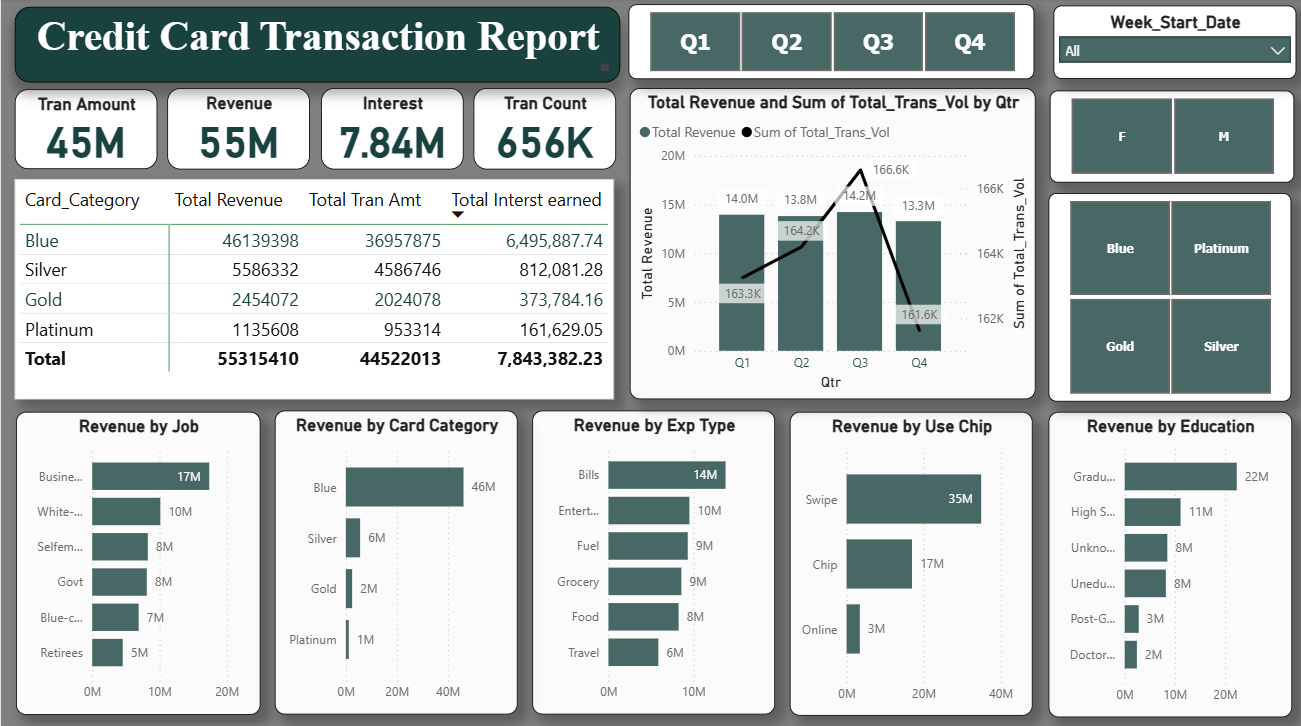

This screenshot's page, from the dashboard's own definition file:
{"tool":"powerbi","page":{"name":"Credit Card Transaction Report","canvas":[1280,720],"ordinal":0},"visuals":[{"type":"card","title":"Tran Amount","fields":{"Values":["Measure.Total Tran Amt"]},"box":[14,90,140,78],"z":0},{"type":"card","title":"Tran Count","fields":{"Values":["Measure.Total Tran Count"]},"box":[463.3,88.9,140,80],"z":1000},{"type":"card","title":"Interest","fields":{"Values":["Measure.Total Interst earned"]},"box":[313.6,88.9,140,80],"z":2000},{"type":"card","title":"Revenue","fields":{"Values":["Measure.Total Revenue"]},"box":[163.8,88.9,140,80],"z":3000},{"type":"pivotTable","fields":{"Rows":["credit_card.Card_Category"],"Values":["Measure.Total Revenue","Measure.Total Tran Amt","Measure.Total Interst earned"]},"box":[14,178,588,216],"z":4000},{"type":"barChart","title":"Revenue by Exp Type","fields":{"Category":["credit_card.Exp Type"],"Y":["Measure.Total Revenue"]},"box":[521.8,405,238.8,298.8],"z":5000},{"type":"barChart","title":"Revenue by Education","fields":{"Y":["Measure.Total Revenue"],"Category":["customer.Education_Level"]},"box":[1027.6,406.5,238.8,300],"z":6000},{"type":"barChart","title":"Revenue by Job","fields":{"Y":["Measure.Total Revenue"],"Category":["customer.Customer_Job","customer.Education_Level"]},"box":[14.6,406.2,240,297.7],"z":7000},{"type":"barChart","title":"Revenue by Card Category","fields":{"Y":["Measure.Total Revenue"],"Category":["credit_card.Card_Category"]},"box":[268.8,405,238.8,298.8],"z":8000},{"type":"barChart","title":"Revenue by Use Chip","fields":{"Y":["Measure.Total Revenue"],"Category":["credit_card.Use Chip"]},"box":[774.7,406.2,238.8,298.8],"z":9000},{"type":"textbox","title":"Credit Card Transaction Report","box":[14,8,594,74],"z":10000},{"type":"lineStackedColumnComboChart","fields":{"Y":["Measure.Total Revenue"],"Category":["credit_card.Qtr"],"Y2":["Sum(credit_card.Total_Trans_Vol)"]},"box":[617.1,88.6,398.6,305.7],"z":11000},{"type":"slicer","fields":{"Values":["credit_card.Qtr"]},"box":[616.2,6.2,398.8,73.8],"z":12000},{"type":"slicer","fields":{"Values":["customer.Gender"]},"box":[1030,90.5,240,90],"z":13000},{"type":"slicer","fields":{"Values":["credit_card.Card_Category"]},"box":[1028.3,191,238.3,205],"z":14000},{"type":"slicer","title":"Week_Start_Date","fields":{"Values":["credit_card.Week_Start_Date"]},"box":[1032.6,7,238.4,72.1],"z":15000}]}

Visuals, with their boxes in screenshot pixels (x1, y1, x2, y2), scaled from the page's 1280x720 canvas onto the 1301x726 screenshot:
"Tran Amount" card: [x1=14, y1=91, x2=157, y2=169]
"Tran Count" card: [x1=471, y1=90, x2=613, y2=170]
"Interest" card: [x1=319, y1=90, x2=461, y2=170]
"Revenue" card: [x1=166, y1=90, x2=309, y2=170]
pivotTable - credit_card.Card_Category x Measure.Total Revenue: [x1=14, y1=179, x2=612, y2=397]
"Revenue by Exp Type" barChart: [x1=530, y1=408, x2=773, y2=710]
"Revenue by Education" barChart: [x1=1044, y1=410, x2=1287, y2=712]
"Revenue by Job" barChart: [x1=15, y1=410, x2=259, y2=710]
"Revenue by Card Category" barChart: [x1=273, y1=408, x2=516, y2=710]
"Revenue by Use Chip" barChart: [x1=787, y1=410, x2=1030, y2=711]
"Credit Card Transaction Report" textbox: [x1=14, y1=8, x2=618, y2=83]
lineStackedColumnComboChart - Measure.Total Revenue x credit_card.Qtr: [x1=627, y1=89, x2=1032, y2=398]
slicer - credit_card.Qtr: [x1=626, y1=6, x2=1032, y2=81]
slicer - customer.Gender: [x1=1047, y1=91, x2=1291, y2=182]
slicer - credit_card.Card_Category: [x1=1045, y1=193, x2=1287, y2=399]
"Week_Start_Date" slicer: [x1=1050, y1=7, x2=1292, y2=80]
